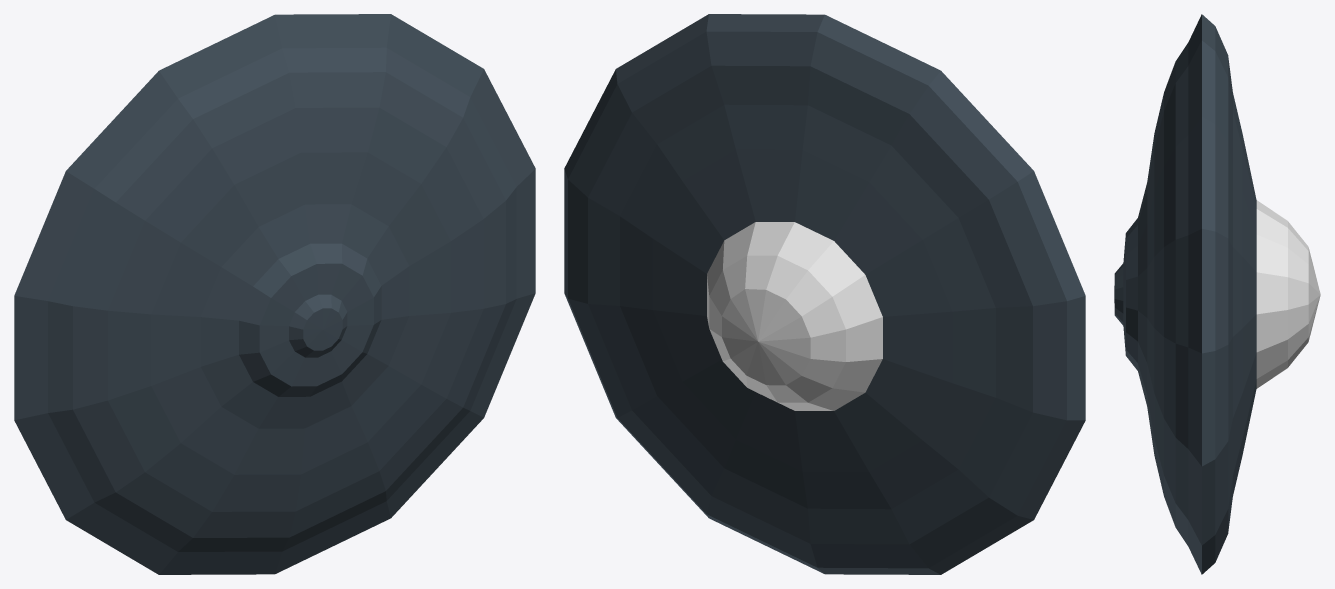
File: PlayerModel.fbx
3 views of the same model, side by side, from view 1: azimuth 30°, elevation 25°; view 2: azimuth 150°, elevation 25°; view 3: azimuth 270°, elevation 25° (orthographic). The views are drawn at different scales.
Visible parts, largest first — view 1: Sphere; view 2: Sphere; view 3: Sphere.
Boxes of the visible parts, bbox=[...] form: Sphere: bbox=[14, 14, 535, 574]; Sphere: bbox=[564, 14, 1085, 574]; Sphere: bbox=[1114, 14, 1320, 574].
Size of the model in its own units: 211 by 217 by 79.83.
